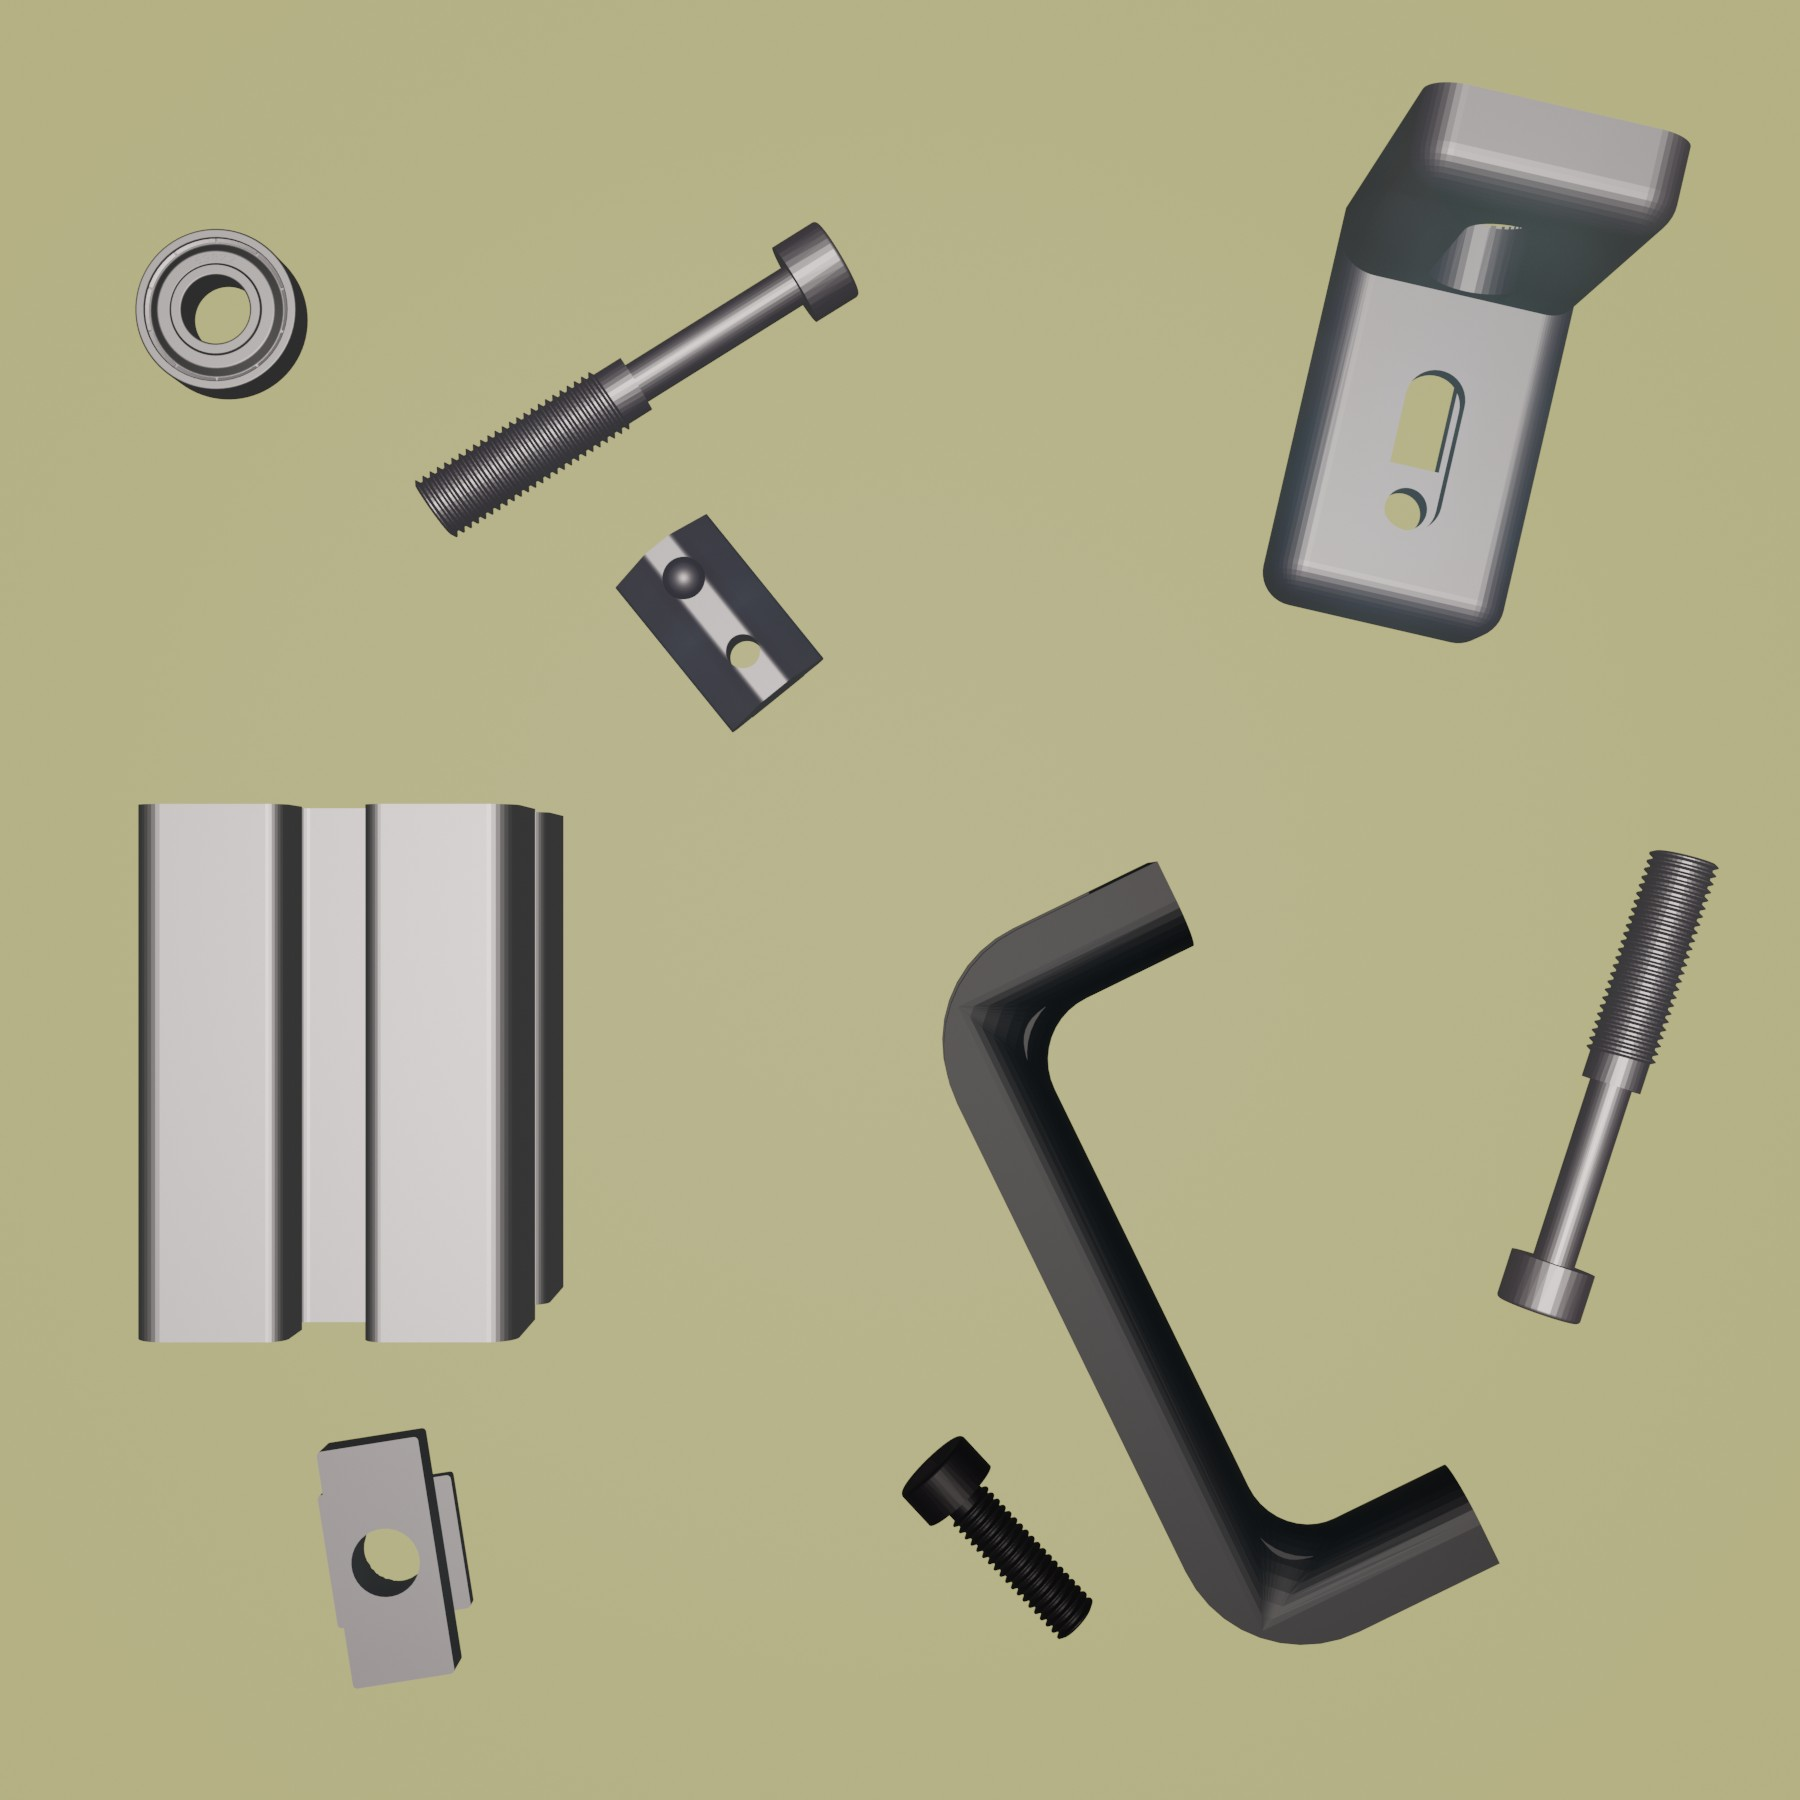Aluminium Extension: (130, 798, 574, 1352)
Multiwinkel: (1261, 77, 1695, 646)
Pull Handle: (938, 855, 1502, 1647)
Shoulder Socket Head Cap Screw: (415, 216, 864, 542), (1493, 846, 1724, 1327)
Socket Head Cap Screw: (898, 1432, 1096, 1642)
T Nut Square: (312, 1423, 476, 1691)
T Spring Nut: (613, 508, 824, 735)
